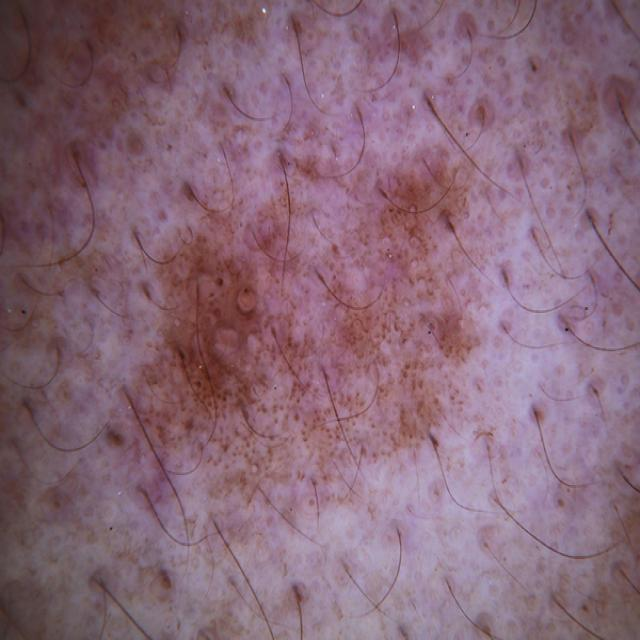Skin-Cancer Pigmented benign keratosis: (3, 4, 640, 630)
